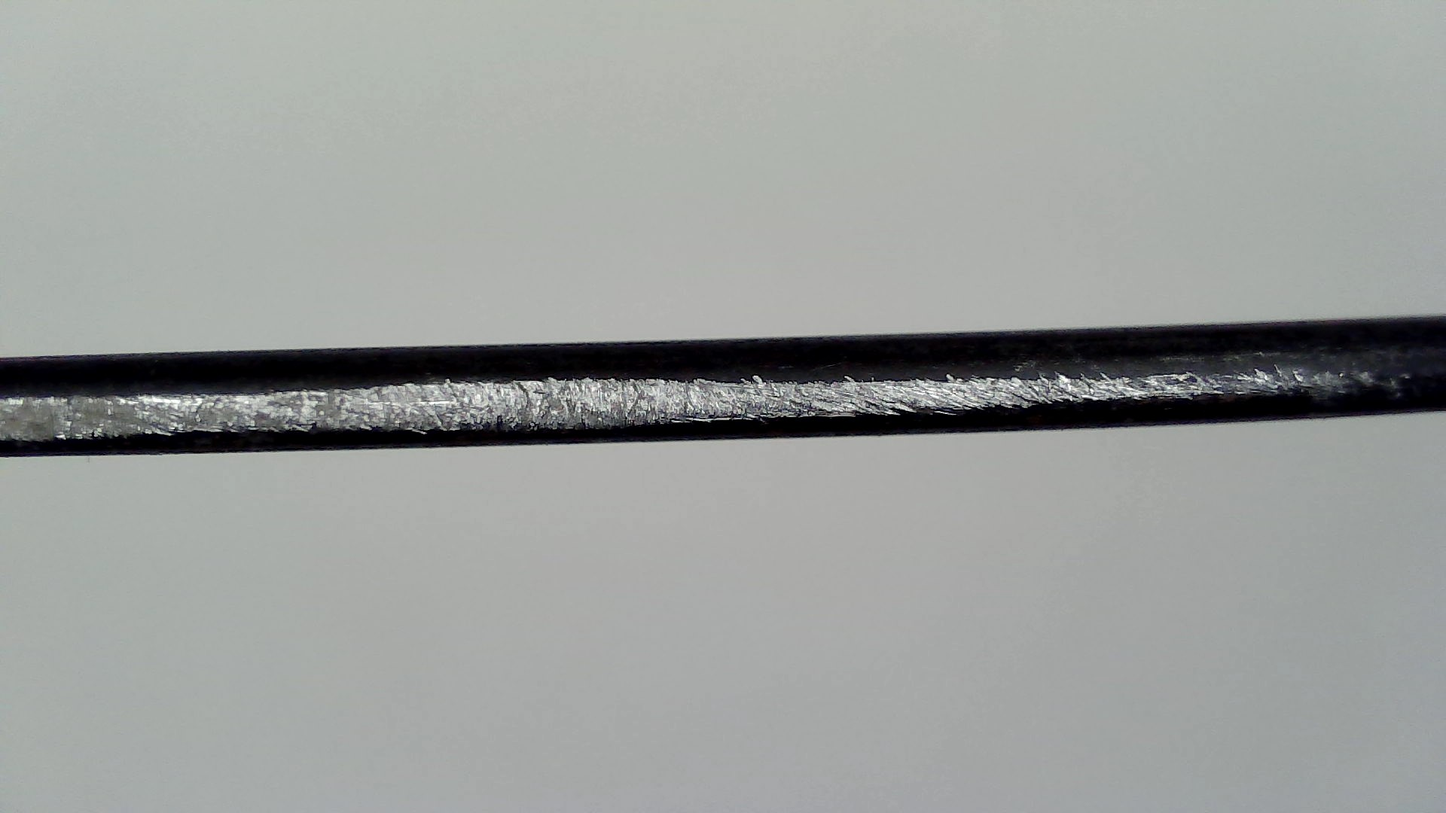defect: (4, 347, 1405, 442)
